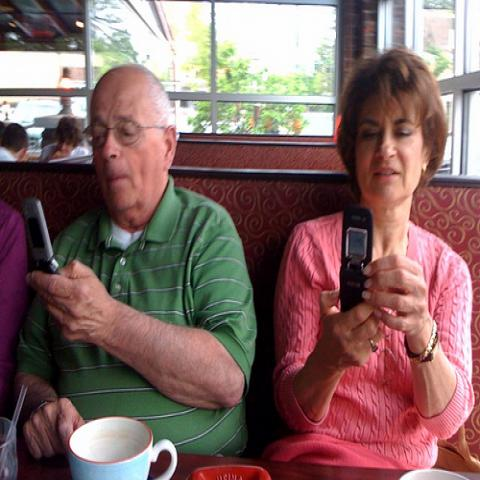car: (7, 98, 61, 152)
